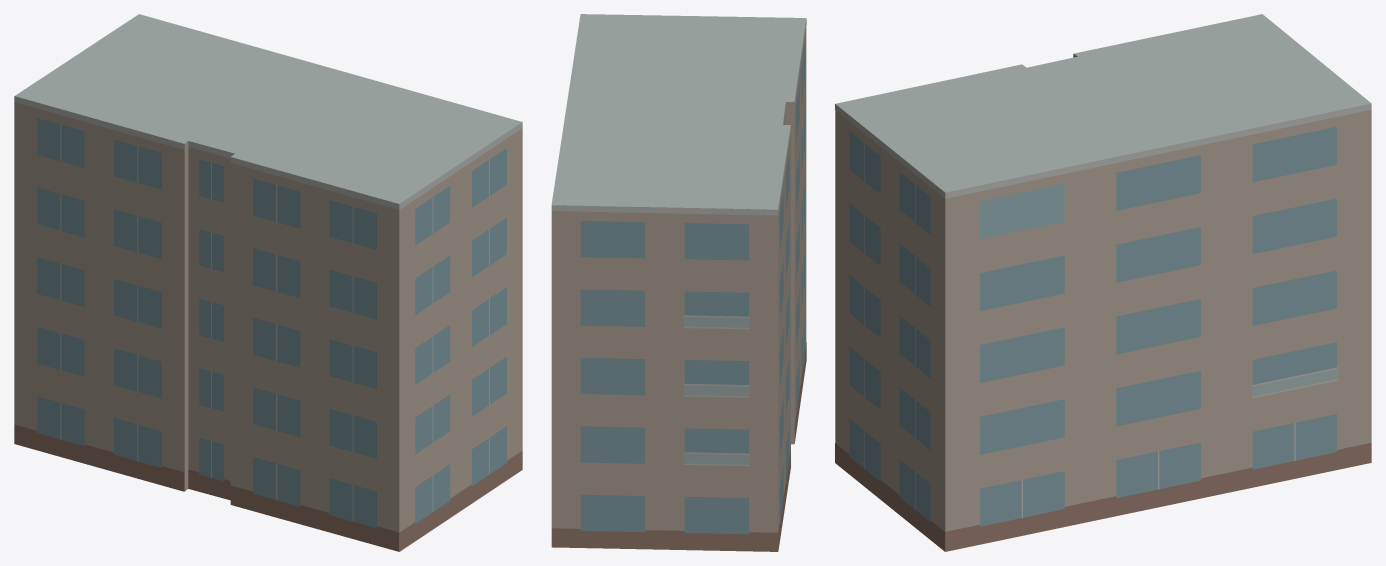
Rendered from survey-upis-32666221.glb.
3 views of the same model, side by side, from view 1: azimuth 30°, elevation 25°; view 2: azimuth 150°, elevation 25°; view 3: azimuth 270°, elevation 25° (orthographic). The views are drawn at different scales.
Visible parts, largest first — view 1: survey-upis-32666221.tmp; view 2: survey-upis-32666221.tmp; view 3: survey-upis-32666221.tmp.
Boxes of the visible parts, <box> form: survey-upis-32666221.tmp: <box>14,14,522,551</box>; survey-upis-32666221.tmp: <box>551,14,806,551</box>; survey-upis-32666221.tmp: <box>835,14,1371,551</box>.
Size of the model in its own units: 15.15 by 14.2 by 19.23.
